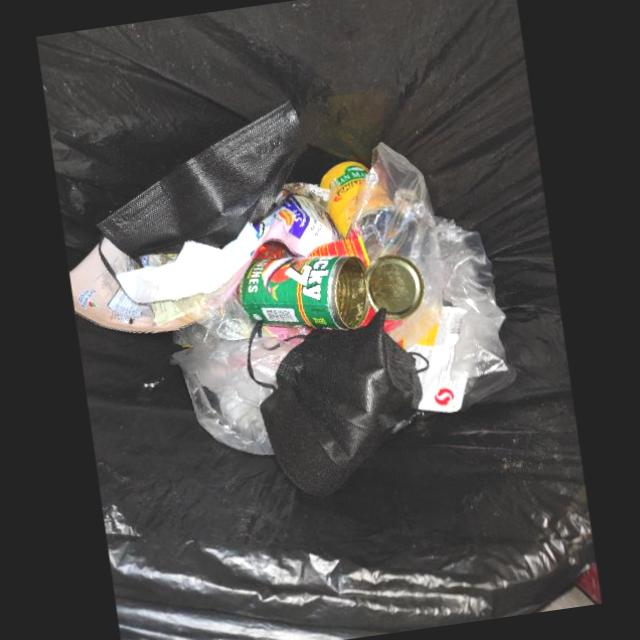bao_bi_thuc_pham: (68, 237, 193, 332), (257, 194, 370, 268), (406, 305, 467, 413)
giay: (114, 221, 259, 303)
khau_trang: (95, 100, 307, 259), (258, 307, 422, 497)
nhom: (236, 254, 424, 330), (319, 160, 369, 240)
tui_ni_long: (352, 141, 508, 380), (168, 317, 311, 455)
